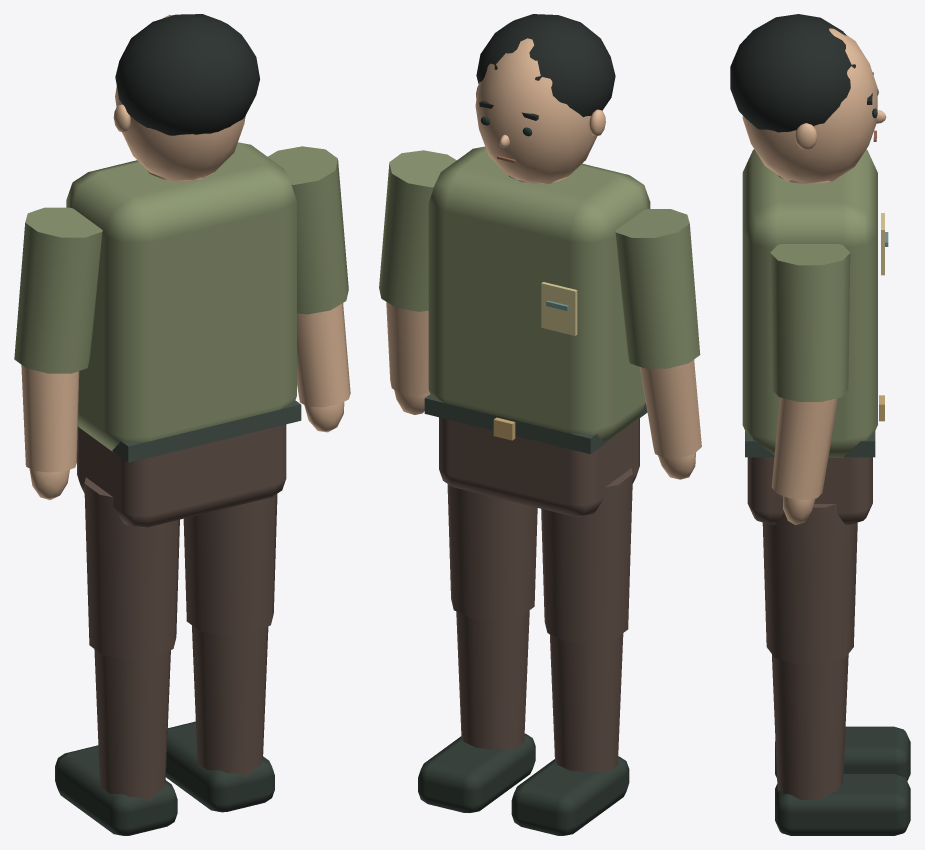
Rendered from scout-13.glb.
The picture shows the model from 3 angles, left to right: view 1: azimuth 30°, elevation 25°; view 2: azimuth 150°, elevation 25°; view 3: azimuth 270°, elevation 25°; orthographic projection. The views are drawn at different scales.
Parts seen in each view (by area): view 1: Scout character 13, left-upper-arm, right-upper-arm; view 2: Scout character 13, left-upper-arm, right-upper-arm; view 3: Scout character 13, right-upper-arm.
Part boxes in pixels (bbox=[...]): Scout character 13: bbox=[55, 14, 301, 835]; left-upper-arm: bbox=[14, 207, 102, 500]; right-upper-arm: bbox=[268, 146, 350, 432]; Scout character 13: bbox=[418, 14, 650, 835]; left-upper-arm: bbox=[615, 209, 701, 479]; right-upper-arm: bbox=[379, 150, 456, 414]; Scout character 13: bbox=[730, 14, 910, 835]; right-upper-arm: bbox=[770, 244, 850, 524].
Bounding box in the file's own units: 0.7284 × 1.72 × 0.3591.
